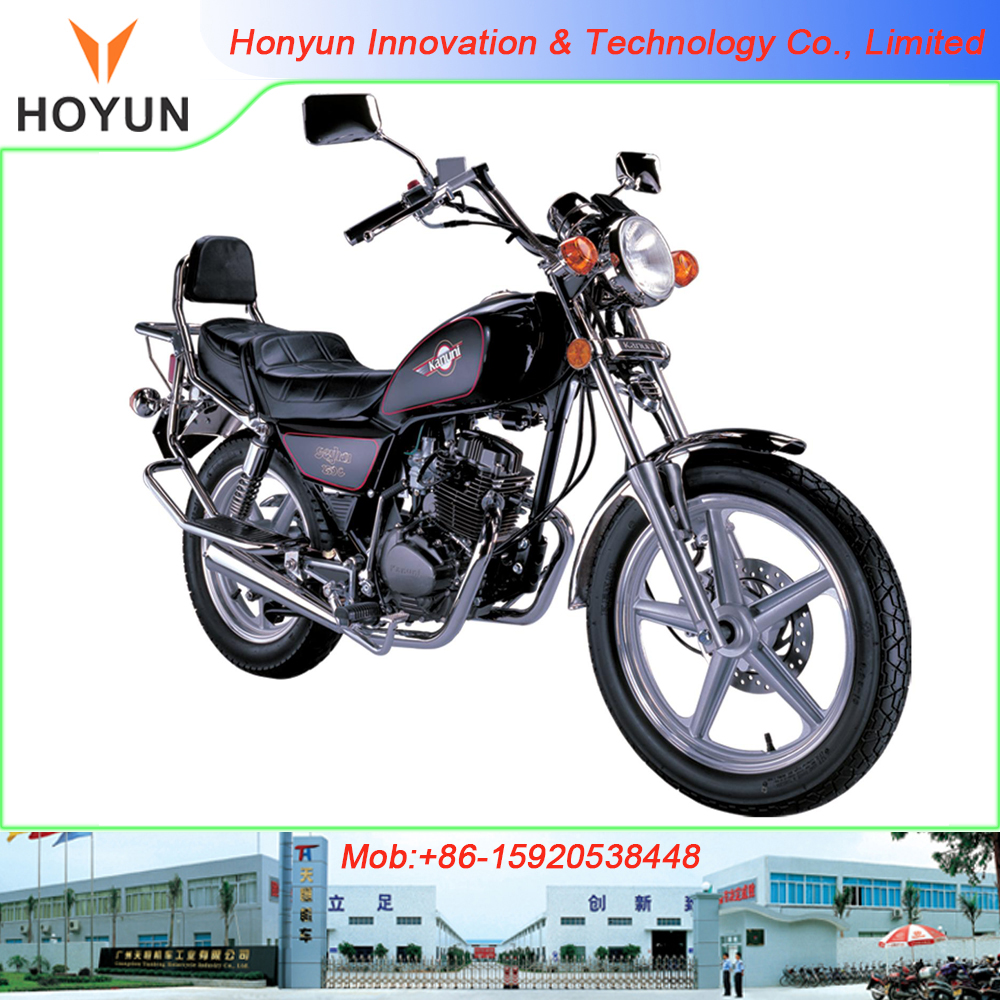motorbike: (126, 156, 966, 816)
